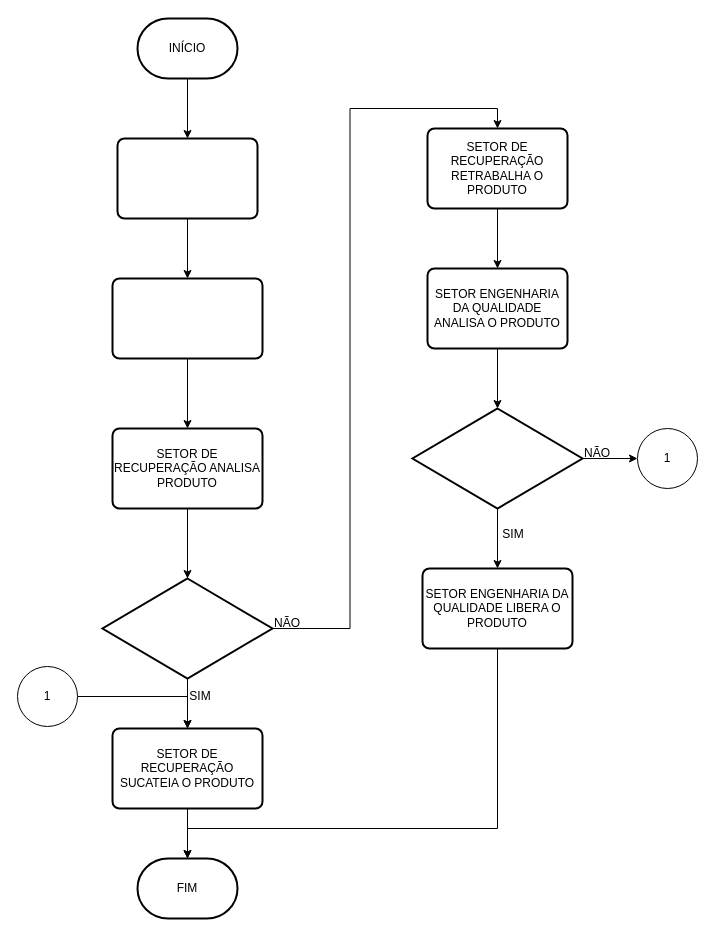
Some shapes in this 715 by 936 pixel diagram are drawn without their labels. Here are the shapes that lost their labels. From the top down, the centre of each, then its label:
At point 187,178: "SETOR DE EXPEDIÇÃO DETECTA DEFEITO".
At point 187,318: "EXPEDIÇÃO ENVIA PRODUTO PARA RECUPERAÇÃO".
At point 497,458: "APROVADO?".
At point 187,628: "REPROVADO?".
